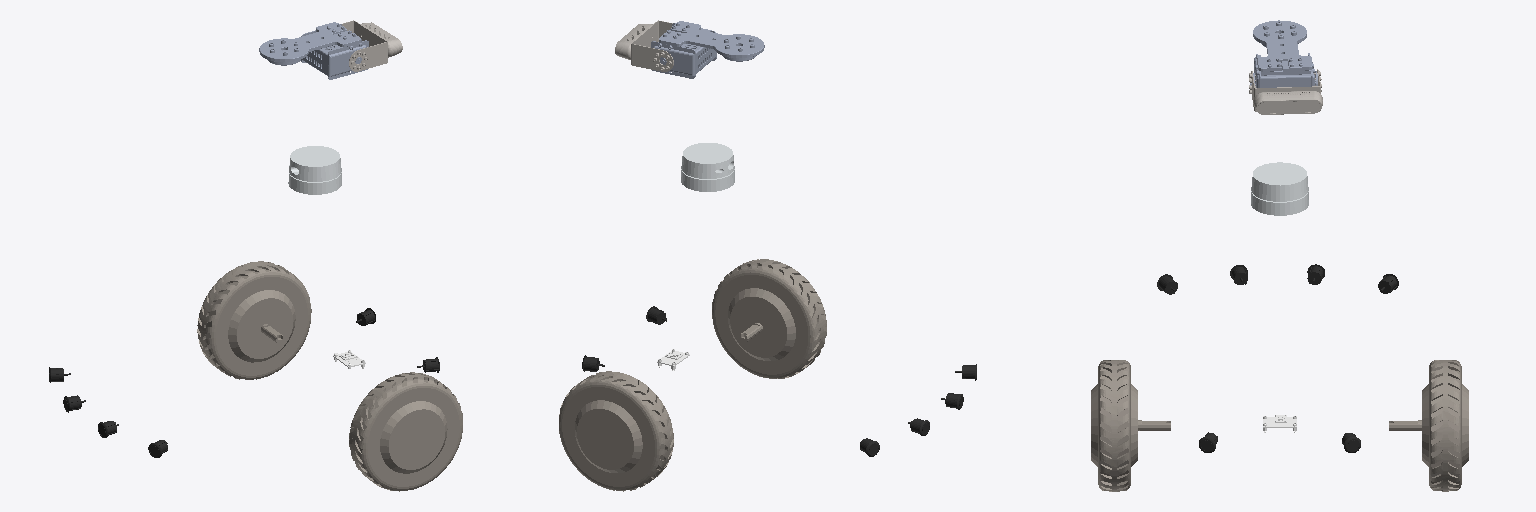
The robot description file, URDF, robot "robot_model":
<?xml version="1.0" encoding="utf-8"?>
<!-- This URDF was automatically created by SolidWorks to URDF Exporter! Originally created by [author] ([email redacted]) 
     Commit Version: 1.6.0-1-g15f4949  Build Version: 1.6.7594.29634
     For more information, please see http://wiki.ros.org/sw_urdf_exporter -->
<robot name="robot_model">

  <link name="base_link">
  <inertial>
    <origin xyz="-0.0297223458239662 0.00885393359209172 0.0908337009417238" rpy="0 0 0" />
    <mass value="26.9449323487092" />
    <inertia ixx="0.161309568708359" ixy="-3.60659406063394E-05" ixz="-0.000200143769478037" iyy="0.162151895045931" iyz="-5.52382803734224E-05" izz="0.294908497251133" />
  </inertial>
  <visual>
    <origin xyz="0 0 0" rpy="0 0 0" />
    <geometry>
      <mesh filename="package://robot_model/meshes/base_link.STL" />
    </geometry>
    <material name="">
      <color rgba="0.752941176470588 0.752941176470588 0.752941176470588 1" />
    </material>
  </visual>
  <collision>
    <origin xyz="0 0 0" rpy="0 0 0" />
    <geometry>
      <mesh filename="package://robot_model/meshes/base_link.STL" />
    </geometry>
  </collision>
  </link>
  <link name="leftwheel_link">
  <inertial>
    <origin xyz="-2.63050595195047E-10 -0.0302561233392935 -4.74950518278977E-07" rpy="0 0 0" />
    <mass value="8.26645936758668" />
    <inertia ixx="0.0148437045775961" ixy="-5.09882633280592E-12" ixz="-3.06290311854092E-10" iyy="0.0259846463892971" iyz="-2.7398453539775E-07" izz="0.0148439439887548" />
  </inertial>
  <visual>
    <origin xyz="0 0 0" rpy="0 0 0" />
    <geometry>
      <mesh filename="package://robot_model/meshes/leftwheel_link.STL" />
    </geometry>
    <material name="">
      <color rgba="0.647058823529412 0.619607843137255 0.588235294117647 1" />
    </material>
  </visual>
  <collision>
    <origin xyz="0 0 0" rpy="0 0 0" />
    <geometry>
      <mesh filename="package://robot_model/meshes/leftwheel_link.STL" />
    </geometry>
  </collision>
  </link>
  <joint name="leftwheel_joint" type="continuous">
    <origin xyz="0.155513606216186 0.24351766574698 -0.00300000000000012" rpy="0 0 0" />
    <parent link="base_link" />
    <child link="leftwheel_link" />
    <axis xyz="0 1 0" />
  </joint>
  <link name="rightwheel_link">
  <inertial>
    <origin xyz="2.63050581317259E-10 0.0302561233392936 -4.74950518233874E-07" rpy="0 0 0" />
    <mass value="8.26645936758669" />
    <inertia ixx="0.0148437045775961" ixy="-5.098826120612E-12" ixz="3.062903059781E-10" iyy="0.0259846463892971" iyz="2.73984535395895E-07" izz="0.0148439439887548" />
  </inertial>
  <visual>
    <origin xyz="0 0 0" rpy="0 0 0" />
    <geometry>
      <mesh filename="package://robot_model/meshes/rightwheel_link.STL" />
    </geometry>
    <material name="">
      <color rgba="0.647058823529412 0.619607843137255 0.588235294117647 1" />
    </material>
  </visual>
  <collision>
    <origin xyz="0 0 0" rpy="0 0 0" />
    <geometry>
      <mesh filename="package://robot_model/meshes/rightwheel_link.STL" />
    </geometry>
  </collision>
  </link>
  <joint name="rightwheel_joint" type="continuous">
    <origin xyz="0.155513606216186 -0.24348233425302 -0.00299999999999988" rpy="0 0 0" />
    <parent link="base_link" />
    <child link="rightwheel_link" />
    <axis xyz="0 -1 0" />
  </joint>
  <link name="imu_link">
  <inertial>
    <origin xyz="0.00125529965633643 0.0008751139294805 -0.0068198851455356" rpy="0 0 0" />
    <mass value="0.0104535365168372" />
    <inertia ixx="7.19123974937022E-07" ixy="2.11070921345573E-10" ixz="7.05548660124759E-12" iyy="3.25594715843655E-07" iyz="1.72249841781866E-12" izz="9.92178589987441E-07" />
  </inertial>
  <visual>
    <origin xyz="0 0 0" rpy="0 0 0" />
    <geometry>
      <mesh filename="package://robot_model/meshes/imu_link.STL" />
    </geometry>
    <material name="">
      <color rgba="1 1 1 1" />
    </material>
  </visual>
  <collision>
    <origin xyz="0 0 0" rpy="0 0 0" />
    <geometry>
      <mesh filename="package://robot_model/meshes/imu_link.STL" />
    </geometry>
  </collision>
  </link>
  <joint name="imu_joint" type="fixed">
    <origin xyz="0.186148717775608 0.000768904512224228 0.0221" rpy="0 0 0" />
    <parent link="base_link" />
    <child link="imu_link" />
    <axis xyz="0 0 0" />
  </joint>
  <link name="laser_link">
  <inertial>
    <origin xyz="-0.000682211679710637 -0.000150008271643555 0.0112258324683817" rpy="0 0 0" />
    <mass value="0.464886528328847" />
    <inertia ixx="0.000228307774390107" ixy="1.5469992617677E-06" ixz="3.08074540886089E-06" iyy="0.000222654022654811" iyz="6.76890055211186E-07" izz="0.000313433847973582" />
  </inertial>
  <visual>
    <origin xyz="0 0 0" rpy="0 0 0" />
    <geometry>
      <mesh filename="package://robot_model/meshes/laser_link.STL" />
    </geometry>
    <material name="">
      <color rgba="0.898039215686275 0.917647058823529 0.929411764705882 1" />
    </material>
  </visual>
  <collision>
    <origin xyz="0 0 0" rpy="0 0 0" />
    <geometry>
      <mesh filename="package://robot_model/meshes/laser_link.STL" />
    </geometry>
  </collision>
  </link>
  <joint name="laser_joint" type="fixed">
    <origin xyz="0.131028962129855 1.76657469800475E-05 0.311024586369209" rpy="0 0 2.9" />
    <parent link="base_link" />
    <child link="laser_link" />
    <axis xyz="0 0 0" />
  </joint>
  <link name="visual0_link">
  <inertial>
    <origin xyz="0.0771293856063807 -0.000151245039253092 -0.0233502995219855" rpy="0 0 0" />
    <mass value="0.523052179676715" />
    <inertia ixx="0.000284058508592274" ixy="-1.48322770807186E-06" ixz="-2.40746836235254E-08" iyy="0.000265421308702614" iyz="-4.86045076906997E-10" izz="0.000460474574721895" />
  </inertial>
  <visual>
    <origin xyz="0 0 0" rpy="0 0 0" />
    <geometry>
      <mesh filename="package://robot_model/meshes/visual0_link.STL" />
    </geometry>
    <material name="">
      <color rgba="0.666666666666667 0.698039215686274 0.768627450980392 1" />
    </material>
  </visual>
  <collision>
    <origin xyz="0 0 0" rpy="0 0 0" />
    <geometry>
      <mesh filename="package://robot_model/meshes/visual0_link.STL" />
    </geometry>
  </collision>
  </link>
  <joint name="visual0_joint" type="continuous">
    <origin xyz="0.0805228654755404 1.76657469781531E-05 0.522579999999997" rpy="0 0 0.0683981303373962" />
    <parent link="base_link" />
    <child link="visual0_link" />
    <axis xyz="0 0 1" />
  </joint>
  <link name="visual1_link">
  <inertial>
    <origin xyz="0.027327226362689 1.02351410491072E-07 -2.4980018054066E-15" rpy="0 0 0" />
    <mass value="0.0801710886762838" />
    <inertia ixx="9.45929223732681E-05" ixy="2.64529698776977E-10" ixz="3.3881317890172E-21" iyy="3.3561994092219E-05" iyz="1.67606644437945E-19" izz="0.000115718814051628" />
  </inertial>
  <visual>
    <origin xyz="0 0 0" rpy="0 0 0" />
    <geometry>
      <mesh filename="package://robot_model/meshes/visual1_link.STL" />
    </geometry>
    <material name="">
      <color rgba="0.776470588235294 0.756862745098039 0.737254901960784 1" />
    </material>
  </visual>
  <collision>
    <origin xyz="0 0 0" rpy="0 0 0" />
    <geometry>
      <mesh filename="package://robot_model/meshes/visual1_link.STL" />
    </geometry>
  </collision>
  </link>
  <joint name="visual1_joint" type="continuous">
    <origin xyz="0.0975 0 -0.0270500000000001" rpy="0 0 0" />
    <parent link="visual0_link" />
    <child link="visual1_link" />
    <axis xyz="0 -1 0" />
  </joint>
  <link name="camera_link">
  <inertial>
    <origin xyz="-0.01273 -3.1681E-07 -4.8174E-05" rpy="0 0 0" />
    <mass value="0.048201" />
    <inertia ixx="2.7391E-05" ixy="-4.2599E-07" ixz="7.5491E-09" iyy="3.3506E-06" iyz="2.1205E-09" izz="2.6652E-05" />
  </inertial>
  <visual>
    <origin xyz="0 0 0" rpy="0 0 0" />
    <geometry>
      <mesh filename="package://robot_model/meshes/camera_link.STL" />
    </geometry>
    <material name="">
      <color rgba="0.77647 0.75686 0.73725 1" />
    </material>
  </visual>
  <collision>
    <origin xyz="0 0 0" rpy="0 0 0" />
    <geometry>
      <mesh filename="package://robot_model/meshes/camera_link.STL" />
    </geometry>
  </collision>
  </link>
  <joint name="camera_joint" type="fixed">
    <origin xyz="0.0749 0 0" rpy="0 0 0" />
    <parent link="visual1_link" />
    <child link="camera_link" />
    <axis xyz="0 0 0" />
  </joint>
  <link name="radar0_link">
  <inertial>
    <origin xyz="-0.0101409863309979 4.16333634234434E-17 -3.46944695195361E-18" rpy="0 0 0" />
    <mass value="0.00570169842163119" />
    <inertia ixx="2.53141510302836E-07" ixy="6.61744490042422E-24" ixz="-5.41156740773893E-23" iyy="3.43200858452882E-07" iyz="2.94623193264228E-23" izz="3.43200858452882E-07" />
  </inertial>
  <visual>
    <origin xyz="0 0 0" rpy="0 0 0" />
    <geometry>
      <mesh filename="package://robot_model/meshes/radar0_link.STL" />
    </geometry>
    <material name="">
      <color rgba="0.223529411764706 0.223529411764706 0.223529411764706 1" />
    </material>
  </visual>
  <collision>
    <origin xyz="0 0 0" rpy="0 0 0" />
    <geometry>
      <mesh filename="package://robot_model/meshes/radar0_link.STL" />
    </geometry>
  </collision>
  </link>
  <joint name="radar0_joint" type="fixed">
    <origin xyz="-0.215835431659209 -0.148858978868447 0.0280000000000001" rpy="0 0 -2.68786375312389" />
    <parent link="base_link" />
    <child link="radar0_link" />
    <axis xyz="0 0 0" />
  </joint>
  <link name="radar1_link">
  <inertial>
    <origin xyz="-0.0101409863309977 0 3.46944695195361E-18" rpy="0 0 0" />
    <mass value="0.0057016984216312" />
    <inertia ixx="2.53141510302838E-07" ixy="1.7205356741103E-22" ixz="5.06623359281101E-23" iyy="3.43200858452882E-07" iyz="-7.88952230837758E-23" izz="3.43200858452882E-07" />
  </inertial>
  <visual>
    <origin xyz="0 0 0" rpy="0 0 0" />
    <geometry>
      <mesh filename="package://robot_model/meshes/radar1_link.STL" />
    </geometry>
    <material name="">
      <color rgba="0.223529411764706 0.223529411764706 0.223529411764706 1" />
    </material>
  </visual>
  <collision>
    <origin xyz="0 0 0" rpy="0 0 0" />
    <geometry>
      <mesh filename="package://robot_model/meshes/radar1_link.STL" />
    </geometry>
  </collision>
  </link>
  <joint name="radar1_joint" type="fixed">
    <origin xyz="-0.246023191017107 -0.0530967039860109 0.028" rpy="0 0 -2.98456972596293" />
    <parent link="base_link" />
    <child link="radar1_link" />
    <axis xyz="0 0 0" />
  </joint>
  <link name="radar2_link">
  <inertial>
    <origin xyz="-0.0101409863309977 0 0" rpy="0 0 0" />
    <mass value="0.00570169842163118" />
    <inertia ixx="2.53141510302836E-07" ixy="7.94093388050907E-23" ixz="7.08925335495026E-23" iyy="3.43200858452881E-07" iyz="3.65610350299674E-23" izz="3.43200858452881E-07" />
  </inertial>
  <visual>
    <origin xyz="0 0 0" rpy="0 0 0" />
    <geometry>
      <mesh filename="package://robot_model/meshes/radar2_link.STL" />
    </geometry>
    <material name="">
      <color rgba="0.223529411764706 0.223529411764706 0.223529411764706 1" />
    </material>
  </visual>
  <collision>
    <origin xyz="0 0 0" rpy="0 0 0" />
    <geometry>
      <mesh filename="package://robot_model/meshes/radar2_link.STL" />
    </geometry>
  </collision>
  </link>
  <joint name="radar2_joint" type="fixed">
    <origin xyz="-0.246893709307426 0.0473072615911303 0.028" rpy="0 0 3.00190960837762" />
    <parent link="base_link" />
    <child link="radar2_link" />
    <axis xyz="0 0 0" />
  </joint>
  <link name="radar3_link">
  <inertial>
    <origin xyz="-0.010141 4.1633E-17 0" rpy="0 0 0" />
    <mass value="0.0057017" />
    <inertia ixx="2.5314E-07" ixy="-2.1176E-22" ixz="9.6301E-23" iyy="3.432E-07" iyz="-1.9569E-23" izz="3.432E-07" />
  </inertial>
  <visual>
    <origin xyz="0 0 0" rpy="0 0 0" />
    <geometry>
      <mesh filename="package://robot_model/meshes/radar3_link.STL" />
    </geometry>
    <material name="">
      <color rgba="0.22353 0.22353 0.22353 1" />
    </material>
  </visual>
  <collision>
    <origin xyz="0 0 0" rpy="0 0 0" />
    <geometry>
      <mesh filename="package://robot_model/meshes/radar3_link.STL" />
    </geometry>
  </collision>
  </link>
  <joint name="radar3_joint" type="fixed">
    <origin xyz="-0.218370911511899 0.143578566306632 0.0279999999999999" rpy="0 0 2.70520363553859" />
    <parent link="base_link" />
    <child link="radar3_link" />
    <axis xyz="0 0 0" />
  </joint>
  <link name="radar4_link">
  <inertial>
    <origin xyz="-0.010141 -6.9389E-18 3.4694E-18" rpy="0 0 0" />
    <mass value="0.0057017" />
    <inertia ixx="2.5314E-07" ixy="-1.3235E-23" ixz="7.2487E-23" iyy="3.432E-07" iyz="-1.5416E-23" izz="3.432E-07" />
  </inertial>
  <visual>
    <origin xyz="0 0 0" rpy="0 0 0" />
    <geometry>
      <mesh filename="package://robot_model/meshes/radar4_link.STL" />
    </geometry>
    <material name="">
      <color rgba="0.22353 0.22353 0.22353 1" />
    </material>
  </visual>
  <collision>
    <origin xyz="0 0 0" rpy="0 0 0" />
    <geometry>
      <mesh filename="package://robot_model/meshes/radar4_link.STL" />
    </geometry>
  </collision>
  </link>
  <joint name="radar4_joint" type="fixed">
    <origin xyz="0.276477925917418 -0.0943471244299281 0.0250000000000001" rpy="0 0 -0.280981535256193" />
    <parent link="base_link" />
    <child link="radar4_link" />
    <axis xyz="0 0 0" />
  </joint>
  <link name="radar5_link">
  <inertial>
    <origin xyz="-0.010141 0 1.7347E-18" rpy="0 0 0" />
    <mass value="0.0057017" />
    <inertia ixx="2.5314E-07" ixy="-7.9409E-23" ixz="4.2066E-23" iyy="3.432E-07" iyz="3.8047E-23" izz="3.432E-07" />
  </inertial>
  <visual>
    <origin xyz="0 0 0" rpy="0 0 0" />
    <geometry>
      <mesh filename="package://robot_model/meshes/radar5_link.STL" />
    </geometry>
    <material name="">
      <color rgba="0.22353 0.22353 0.22353 1" />
    </material>
  </visual>
  <collision>
    <origin xyz="0 0 0" rpy="0 0 0" />
    <geometry>
      <mesh filename="package://robot_model/meshes/radar5_link.STL" />
    </geometry>
  </collision>
  </link>
  <joint name="radar5_joint" type="fixed">
    <origin xyz="0.27648 0.094382 0.025" rpy="0 0 0.28098" />
    <parent link="base_link" />
    <child link="radar5_link" />
    <axis xyz="0 0 0" />
  </joint>
</robot>

--- What the picture shows (computed from the rendered views, not written in the file) ---
Views: 3 orthographic renders of the robot side by side, from view 1: azimuth 30°, elevation 25°; view 2: azimuth 150°, elevation 25°; view 3: azimuth 270°, elevation 25°.
Model robot_model with 14 links and 13 joints (4 continuous, 9 fixed), rooted at base_link, posed all joints at 0.
Links seen in each view (by area): view 1: rightwheel_link, leftwheel_link, visual0_link, laser_link, visual1_link; view 2: leftwheel_link, rightwheel_link, visual0_link, laser_link, visual1_link; view 3: rightwheel_link, leftwheel_link, visual0_link, laser_link, camera_link.
Link boxes in pixels (<box>): rightwheel_link: <box>349,372,462,491</box>; leftwheel_link: <box>197,261,311,379</box>; visual0_link: <box>259,22,368,79</box>; laser_link: <box>288,146,341,194</box>; visual1_link: <box>342,20,387,71</box>; leftwheel_link: <box>559,371,673,491</box>; rightwheel_link: <box>712,259,826,378</box>; visual0_link: <box>651,21,764,78</box>; laser_link: <box>681,143,734,191</box>; visual1_link: <box>631,20,673,71</box>; rightwheel_link: <box>1091,360,1170,491</box>; leftwheel_link: <box>1389,360,1468,491</box>; visual0_link: <box>1250,20,1317,87</box>; laser_link: <box>1251,162,1308,215</box>; camera_link: <box>1253,91,1322,114</box>.
Bounding box of the posed robot: 0.5272 × 0.487 × 0.6149 m (x, y, z).
13 mesh visuals loaded from 14 distinct referenced files (13 binary STL); not drawn: 1 (reference not matched to a file when rendering).